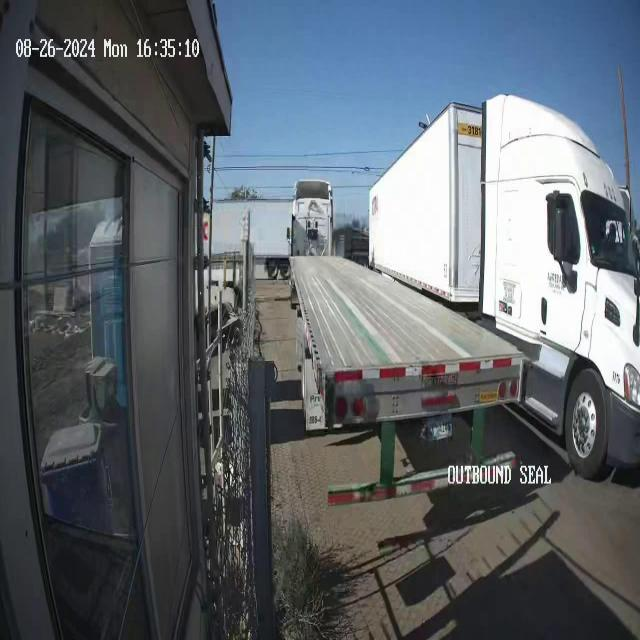BOBTAIL: (286, 178, 521, 498)
TRUCK_CONTAINER: (367, 93, 640, 478)
